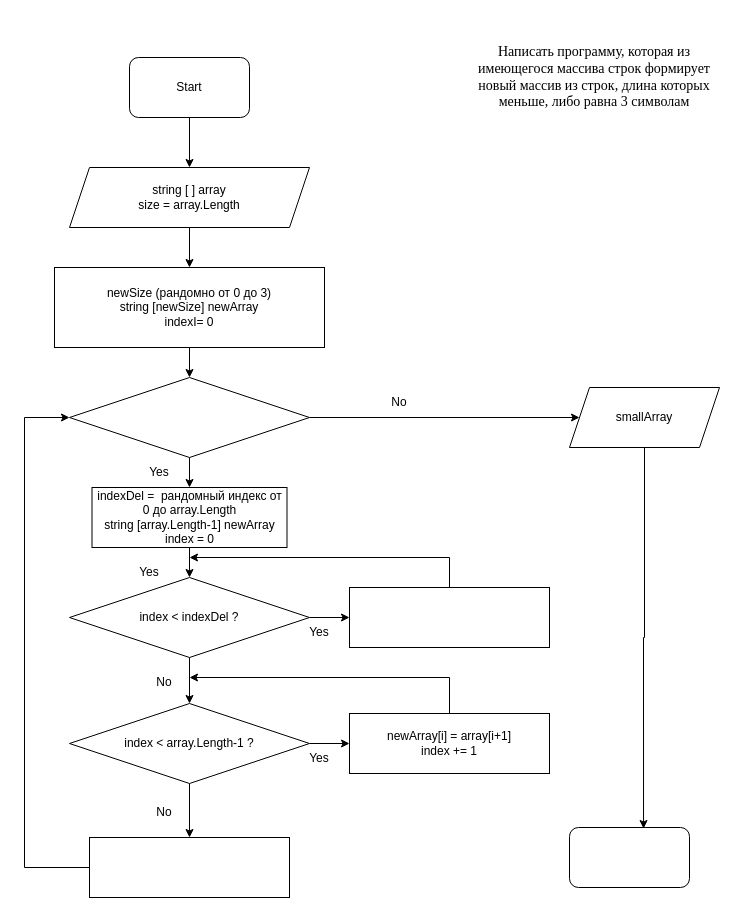
Image size: 742x915. Some labels were removed from this diagram. Each missing label, with the centre of its shape:
"array = newArray indexI += 1" belongs at (189,867).
"End" belongs at (629,857).
"indexI < size - newSize ?" belongs at (189,417).
"newArray[index] = array[index] index += 1" belongs at (449,617).
